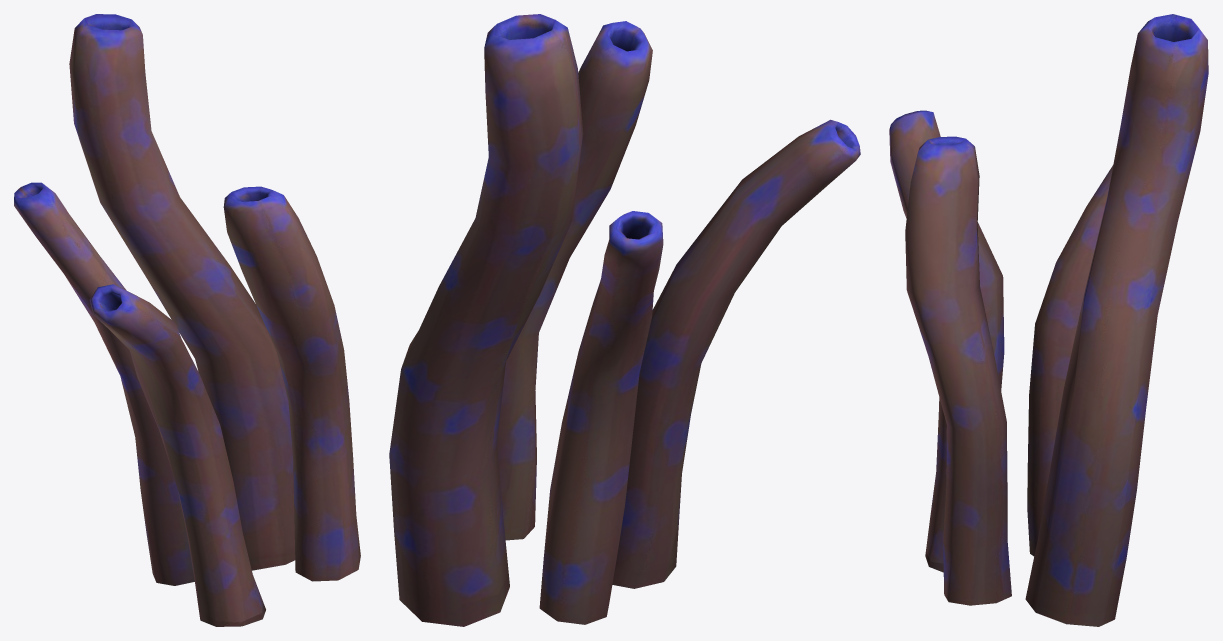
The model's file is 06-BVThin.fbx.
3 renders of one model, left to right at view 1: azimuth 30°, elevation 25°; view 2: azimuth 150°, elevation 25°; view 3: azimuth 270°, elevation 25°, orthographic. The views are drawn at different scales.
Visible parts, largest first — view 1: 06-BVThin_LOD00; view 2: 06-BVThin_LOD00; view 3: 06-BVThin_LOD00.
Part boxes in pixels (<box>): 06-BVThin_LOD00: <box>14,14,360,626</box>; 06-BVThin_LOD00: <box>389,14,860,626</box>; 06-BVThin_LOD00: <box>889,14,1208,626</box>.
Size of what is drawn, in the model's own units: 47.04 by 81.87 by 43.87.
